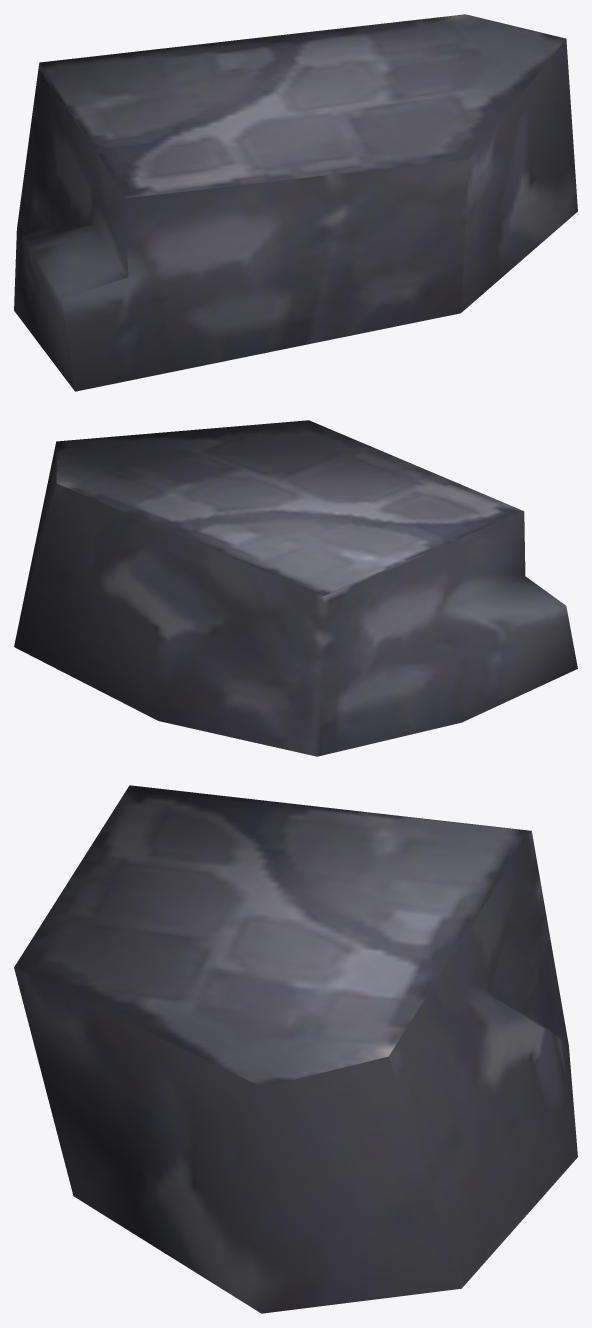
Rendered from Beidaying_podunzi03.FBX.
3 renders of one model, top to bottom at view 1: azimuth 30°, elevation 25°; view 2: azimuth 150°, elevation 25°; view 3: azimuth 270°, elevation 25°, orthographic. The views are drawn at different scales.
Visible parts, largest first — view 1: Beidaying_podunzi03; view 2: Beidaying_podunzi03; view 3: Beidaying_podunzi03.
Part boxes in pixels (x1,y1,x2,y2): Beidaying_podunzi03: (14, 14, 577, 391); Beidaying_podunzi03: (14, 420, 577, 756); Beidaying_podunzi03: (14, 785, 577, 1313).
Size of the model in its own units: 77.92 by 54.07 by 23.22.
